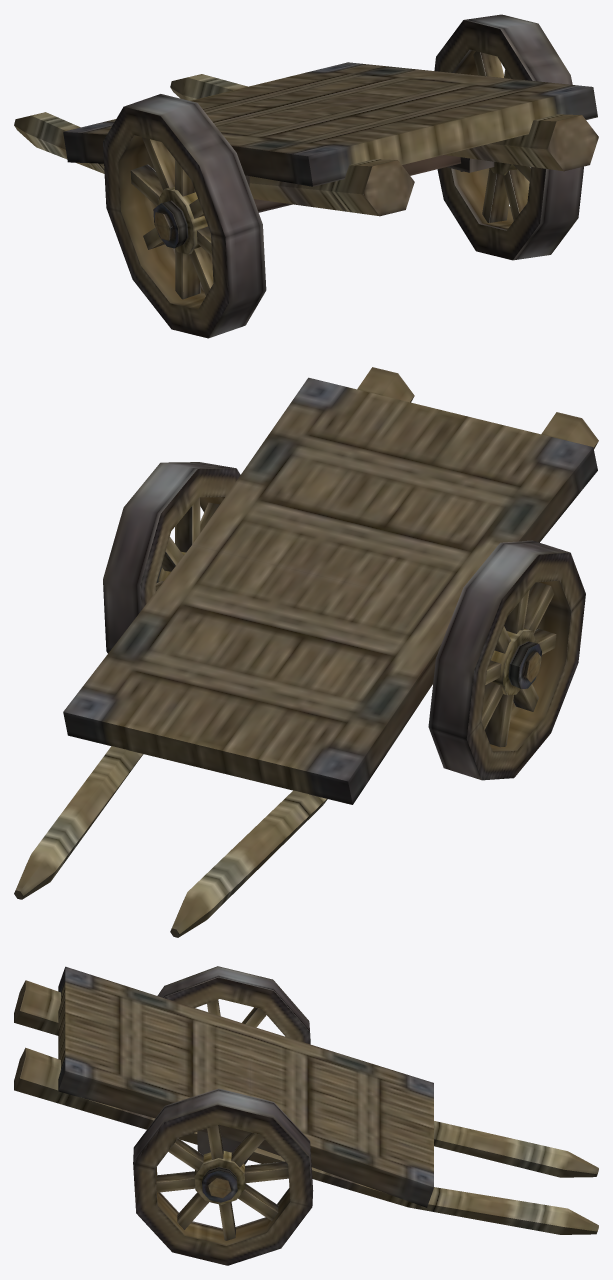
The model's file is DN_lv2_hcche01.FBX.
3 renders of one model, top to bottom at view 1: azimuth 30°, elevation 25°; view 2: azimuth 150°, elevation 25°; view 3: azimuth 270°, elevation 25°, orthographic. The views are drawn at different scales.
Parts seen in each view (by area): view 1: DN_lv2_hcche01; view 2: DN_lv2_hcche01; view 3: DN_lv2_hcche01.
Boxes of the visible parts, x1,y1,x2,y2 form: DN_lv2_hcche01: (14,14,598,338); DN_lv2_hcche01: (14,367,598,937); DN_lv2_hcche01: (14,966,598,1265).
Size of the model in its own units: 190 by 119 by 339.
